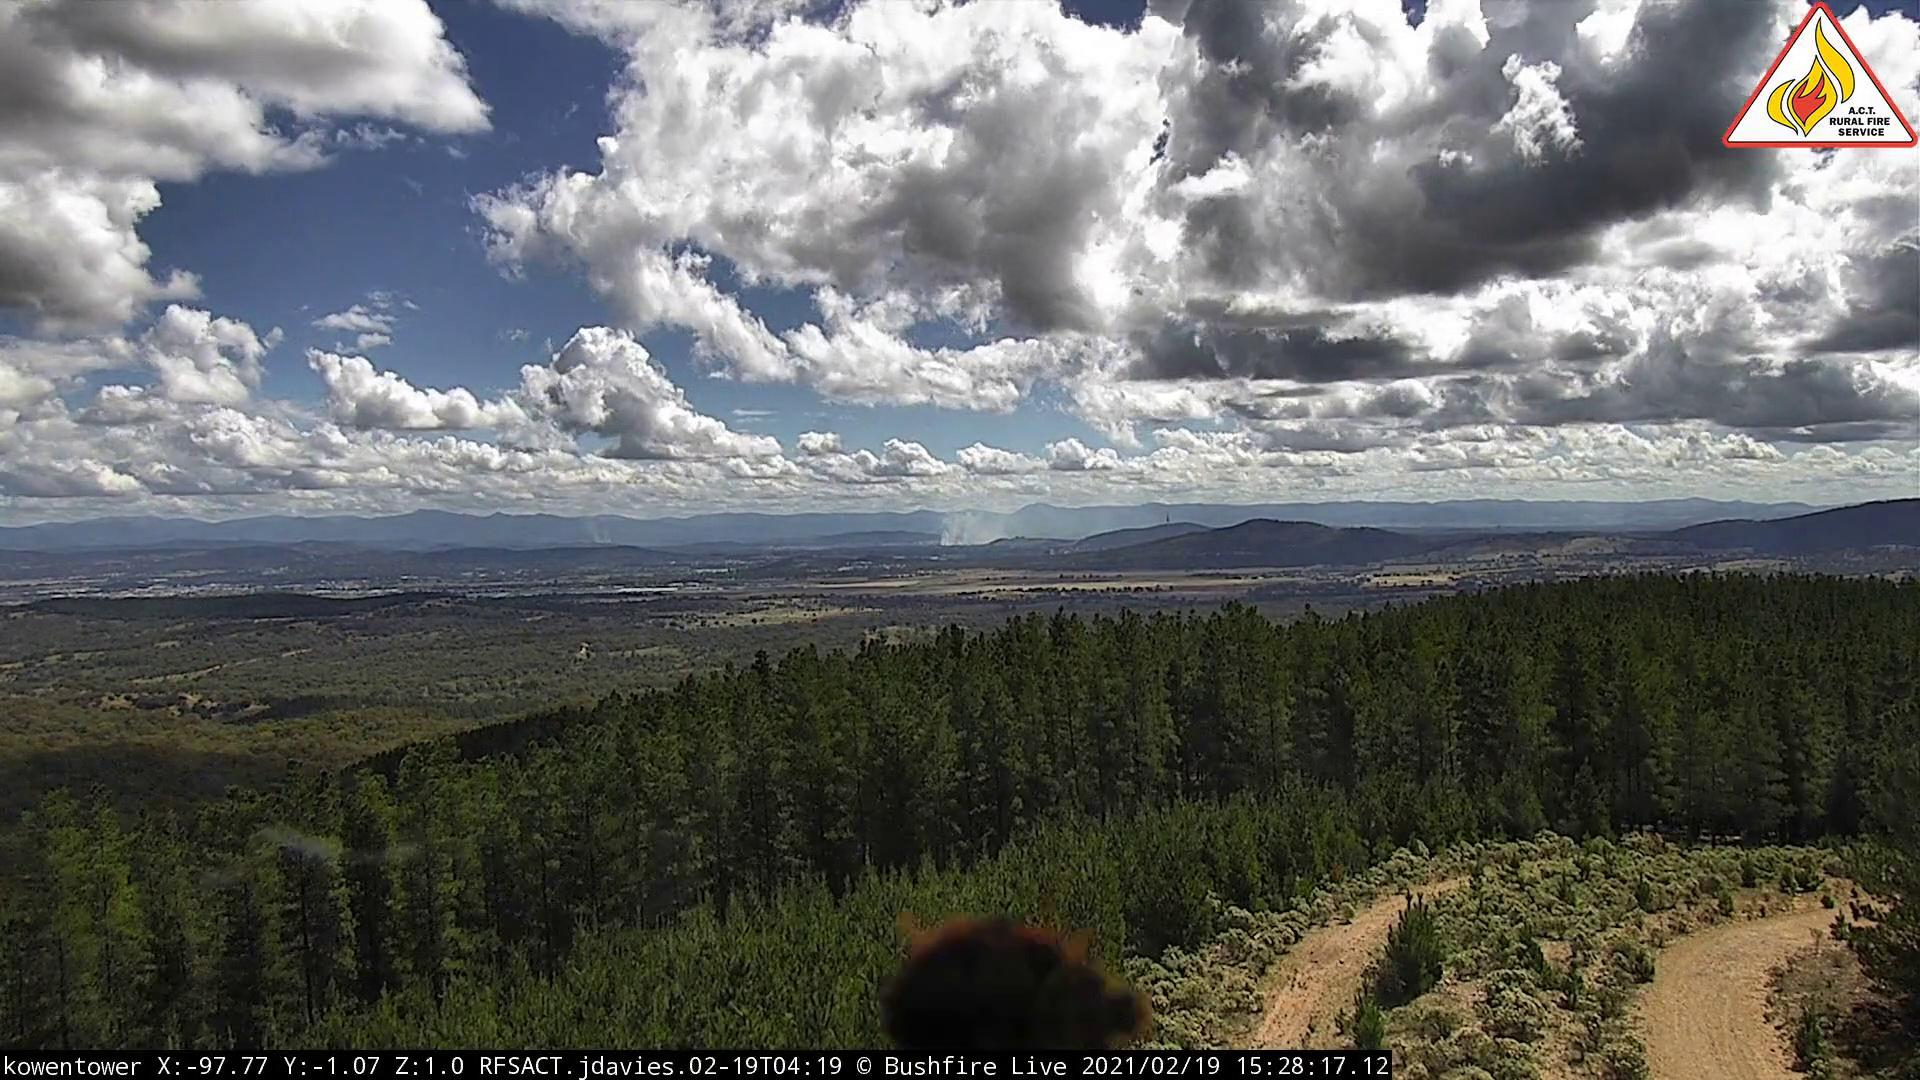Smoke: (936, 505, 1027, 553), (593, 534, 620, 549)
